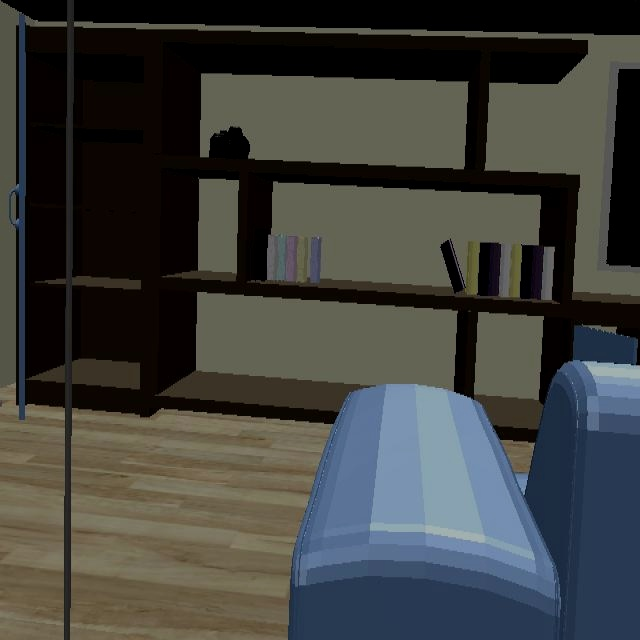book: (440, 240, 554, 299), (253, 229, 320, 283)
bookshelf: (15, 23, 640, 433)
monitor: (597, 63, 640, 275)
sofa: (286, 361, 640, 640)
